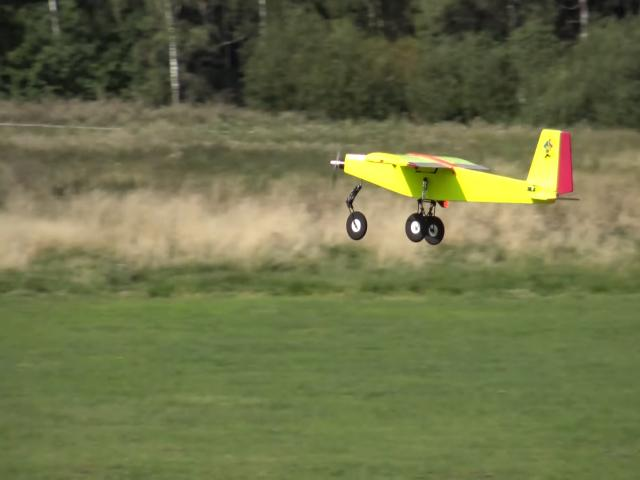plane: (331, 130, 575, 246)
